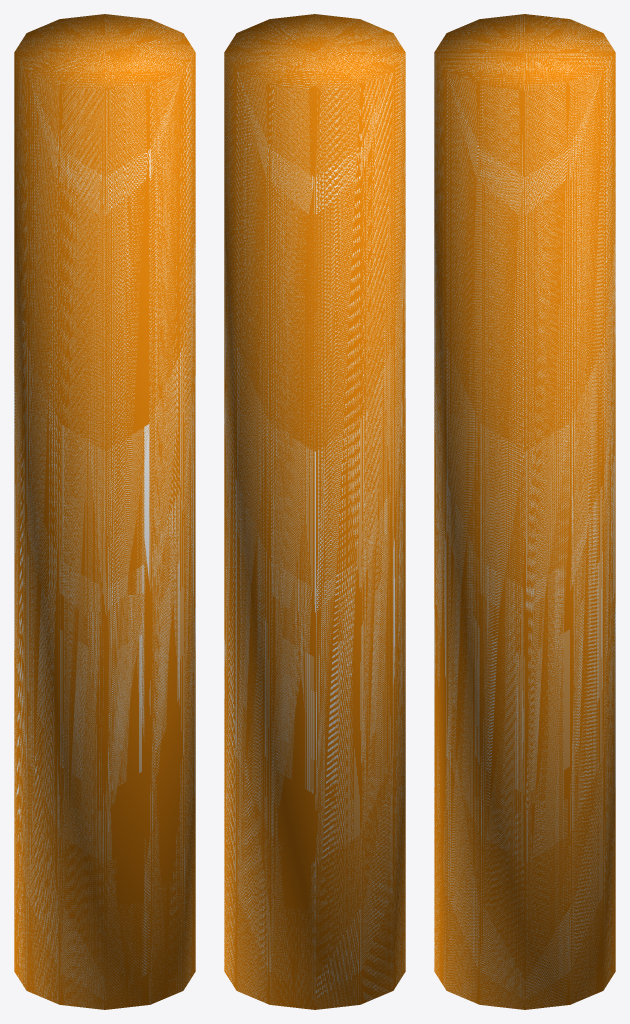
File: original-29.obj
3 renders of one model, left to right at view 1: azimuth 30°, elevation 25°; view 2: azimuth 150°, elevation 25°; view 3: azimuth 270°, elevation 25°, orthographic.
Visible parts, largest first — view 1: mesh26/mesh26-geometry#mesh26-geometry; view 2: mesh26/mesh26-geometry#mesh26-geometry; view 3: mesh26/mesh26-geometry#mesh26-geometry.
Boxes of the visible parts, x1,y1,x2,y2 form: mesh26/mesh26-geometry#mesh26-geometry: (14,14,195,1009); mesh26/mesh26-geometry#mesh26-geometry: (224,14,405,1009); mesh26/mesh26-geometry#mesh26-geometry: (434,14,615,1009).
Bounding box in the file's own units: 0.0236 × 0.1323 × 0.0236.
